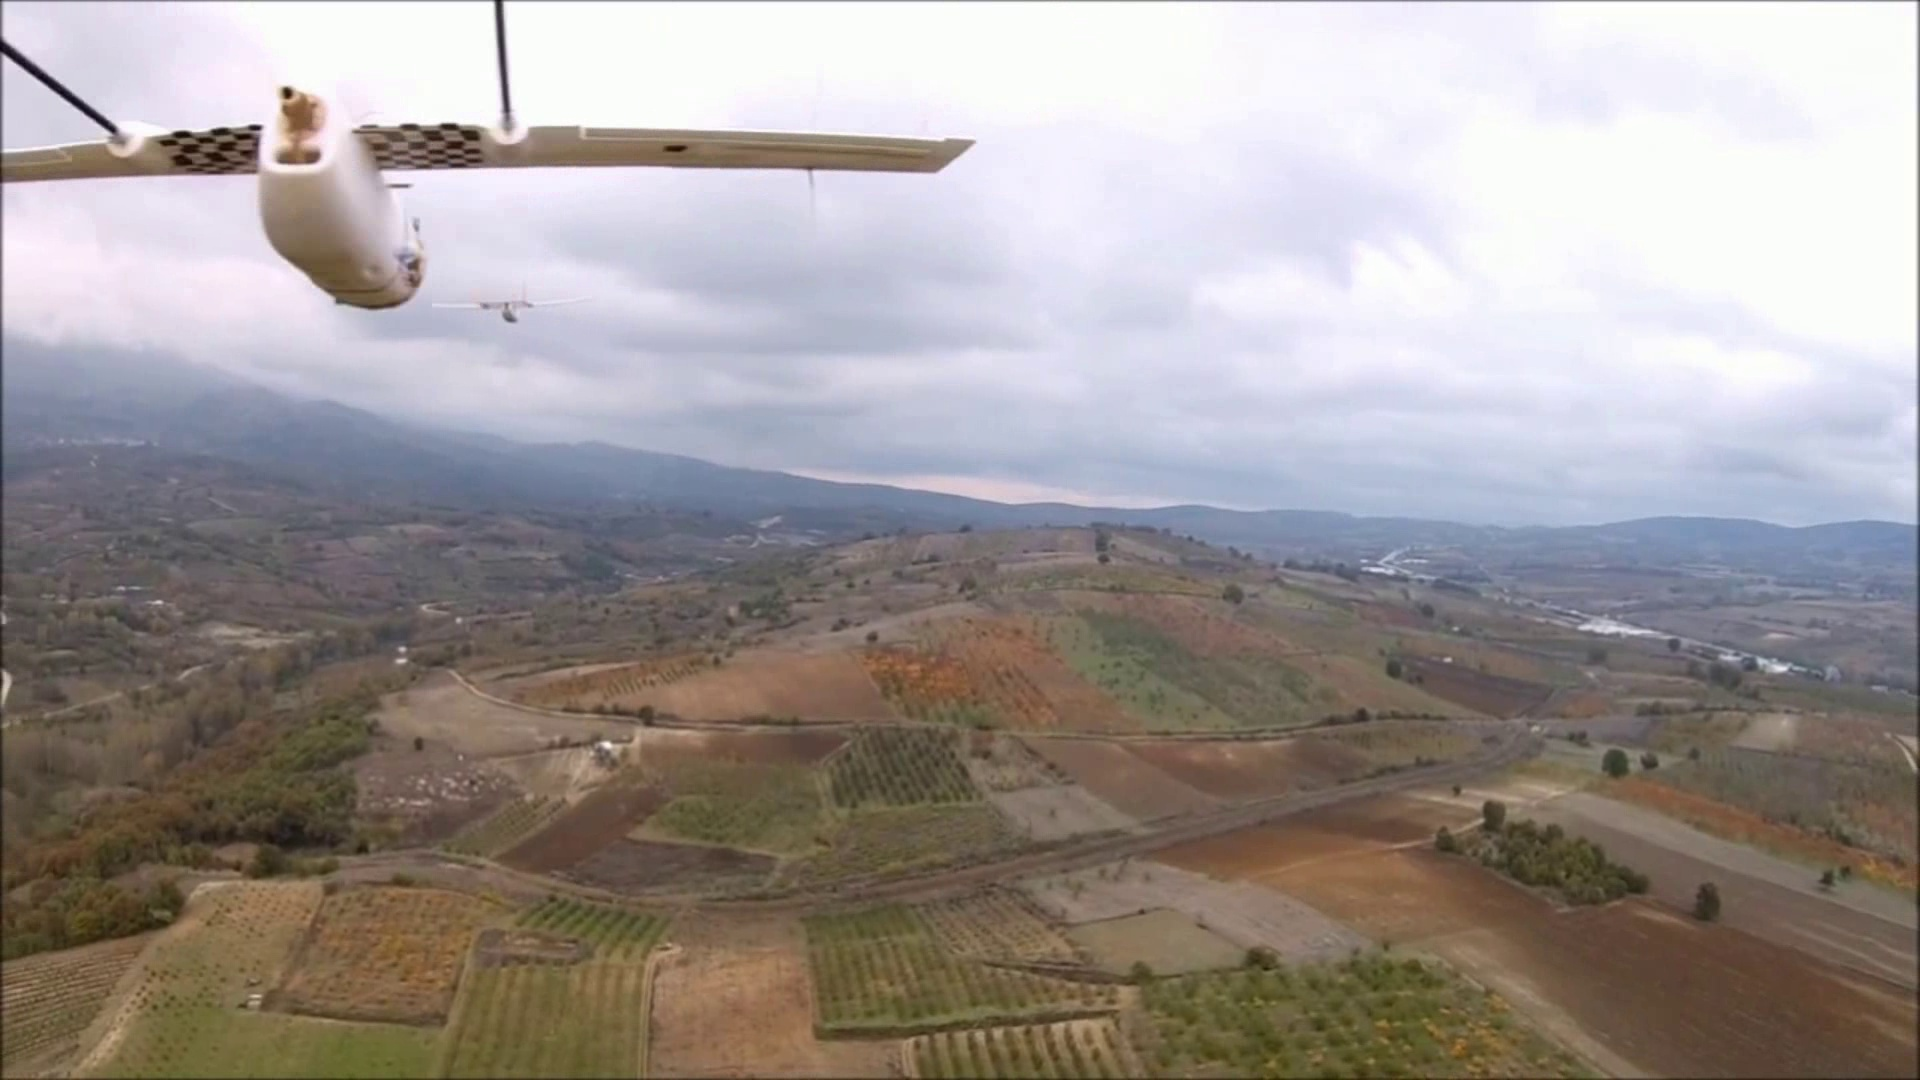airplane: (8, 6, 974, 320)
